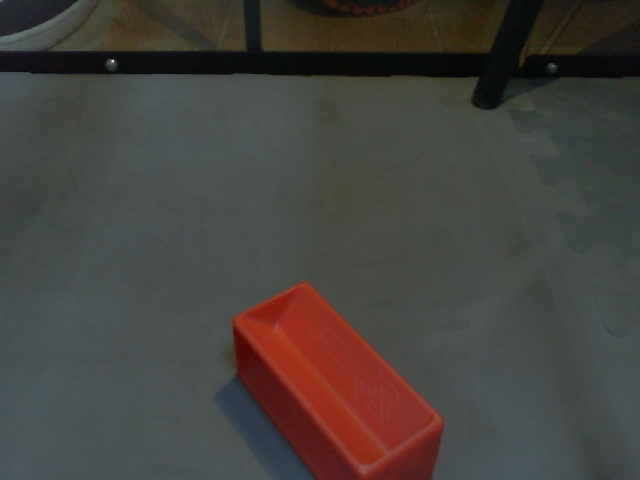RedSample: (232, 281, 445, 480)
